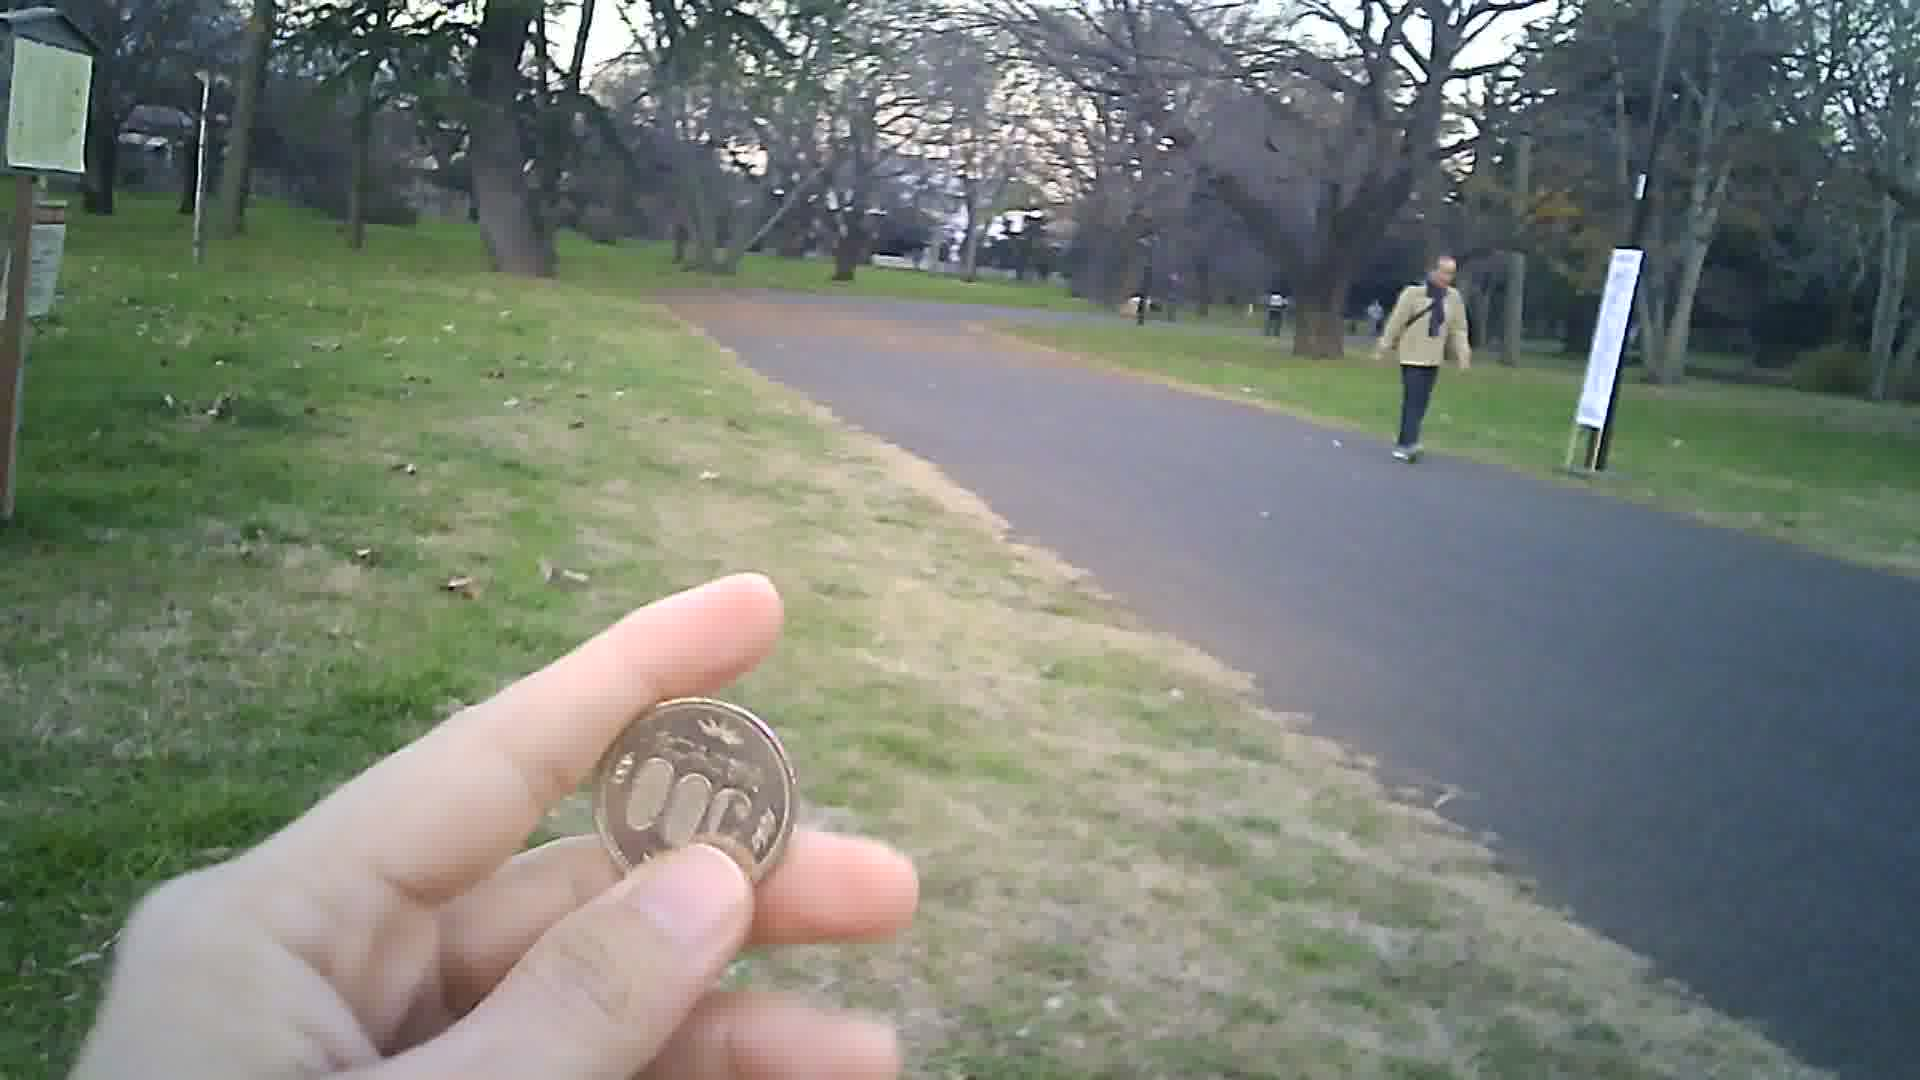500 Yen: (589, 688, 804, 906)
